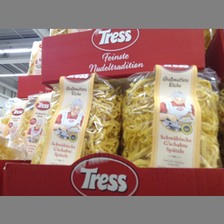pasta: (122, 68, 221, 167), (36, 82, 120, 165)
